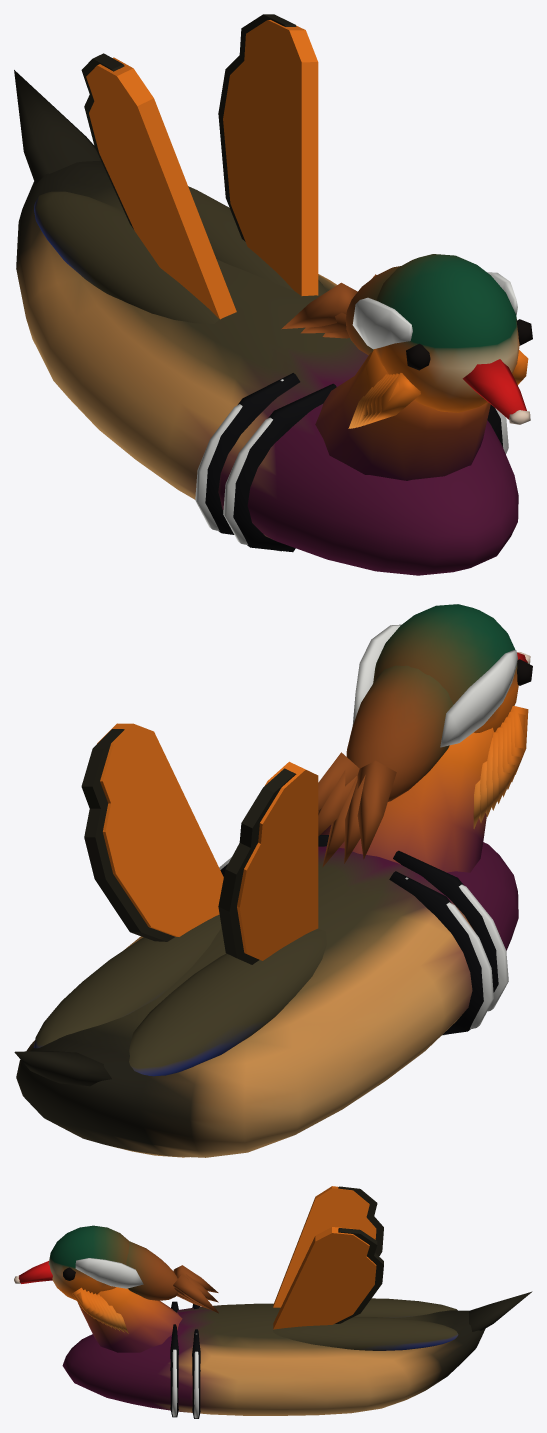
Rendered from MandarinDuck.fbx.
3 renders of one model, top to bottom at view 1: azimuth 30°, elevation 25°; view 2: azimuth 150°, elevation 25°; view 3: azimuth 270°, elevation 25°, orthographic. The views are drawn at different scales.
Parts seen in each view (by area): view 1: MandarinDuck; view 2: MandarinDuck; view 3: MandarinDuck.
Boxes of the visible parts, left/top/right/bottom form: MandarinDuck: left=14, top=14, right=532, bottom=575; MandarinDuck: left=14, top=604, right=532, bottom=1157; MandarinDuck: left=14, top=1186, right=532, bottom=1418.
Size of the model in its own units: 0.2074 by 0.2512 by 0.6201.
